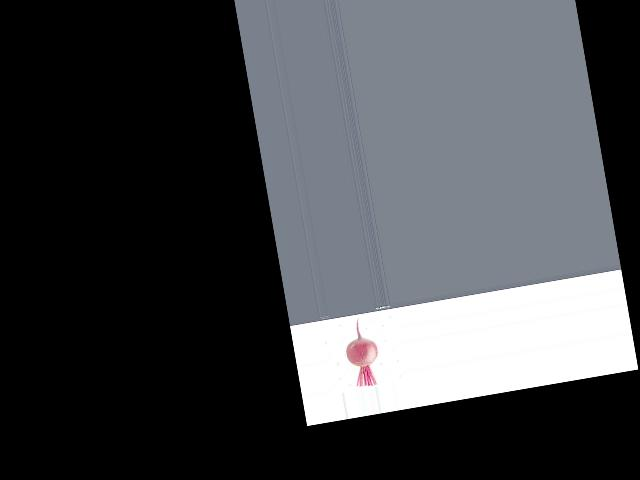beet: (340, 314, 382, 389)
